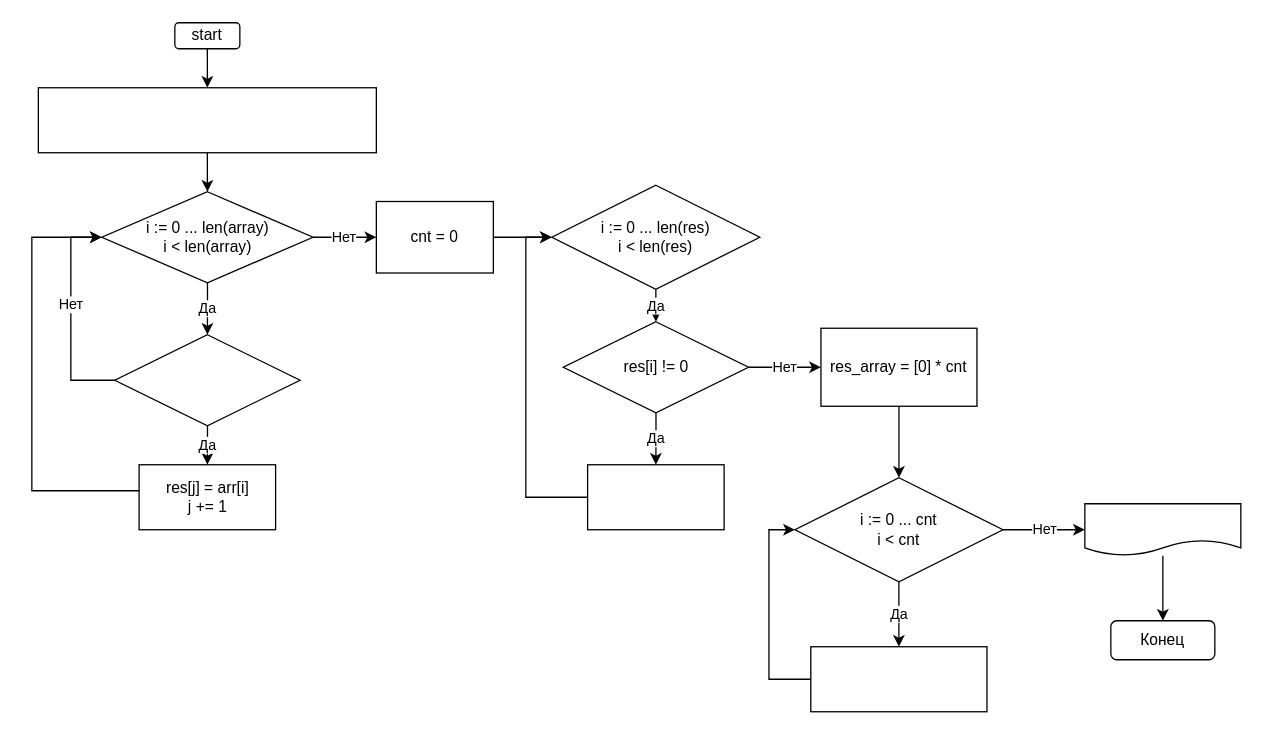
This 1264x735 diagram has some shape labels left out. The centre of each missing label's shape, as x and y in pixels:
array = [ "hello" , "2" , "world" , ":-)" ] j = 0 res = [0] * len(array): [206,119]
cnt += 1: [655,496]
len(array[i]) <= 3: [206,379]
print(res_array): [1162,529]
res_array[i] = res[i]: [898,678]
